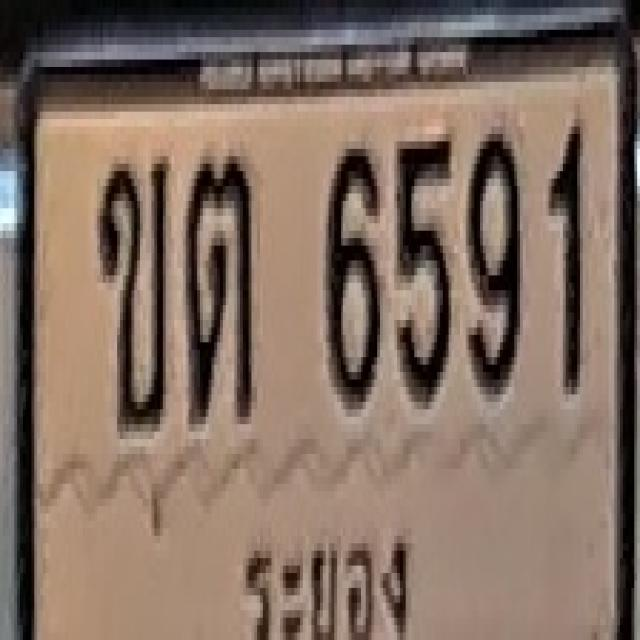1: (547, 122, 582, 390)
5: (396, 134, 450, 402)
6: (326, 141, 380, 402)
9: (466, 126, 520, 394)
A02: (97, 156, 169, 432)
A21: (184, 152, 253, 420)
RYG: (234, 503, 414, 640)
